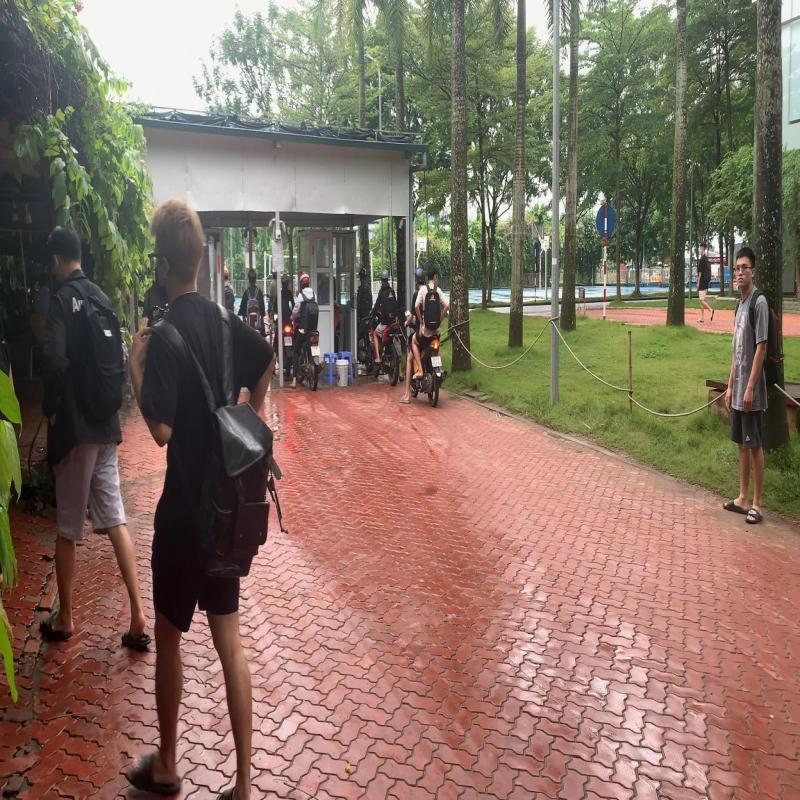nohelmet: (426, 262, 439, 284)
